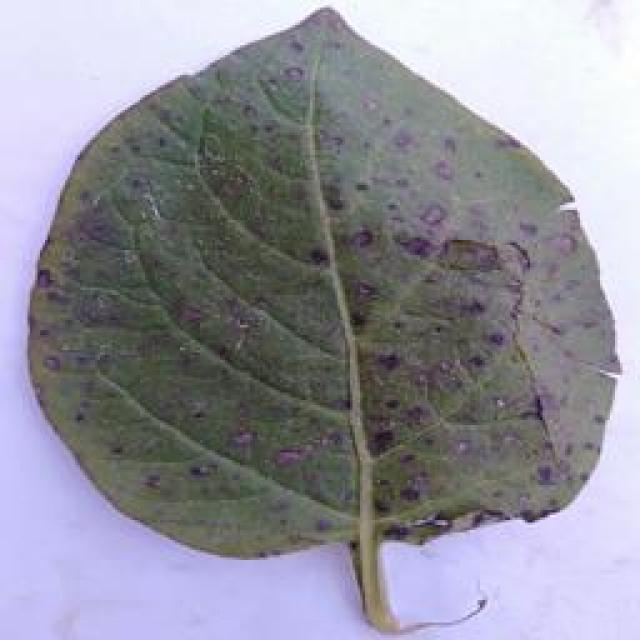Potato_Early_Blight: (29, 5, 628, 566)
